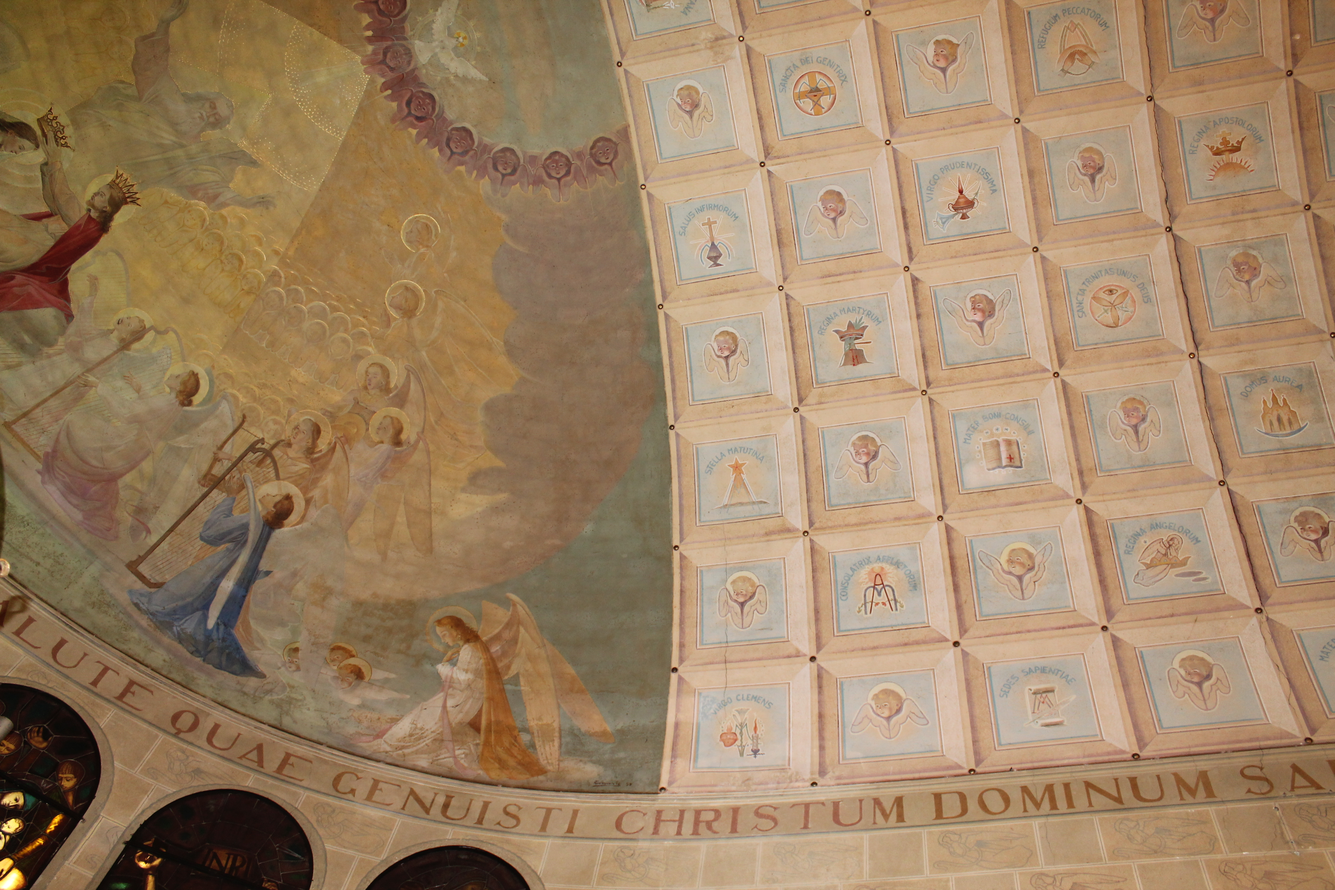Crack: (682, 493, 795, 794)
